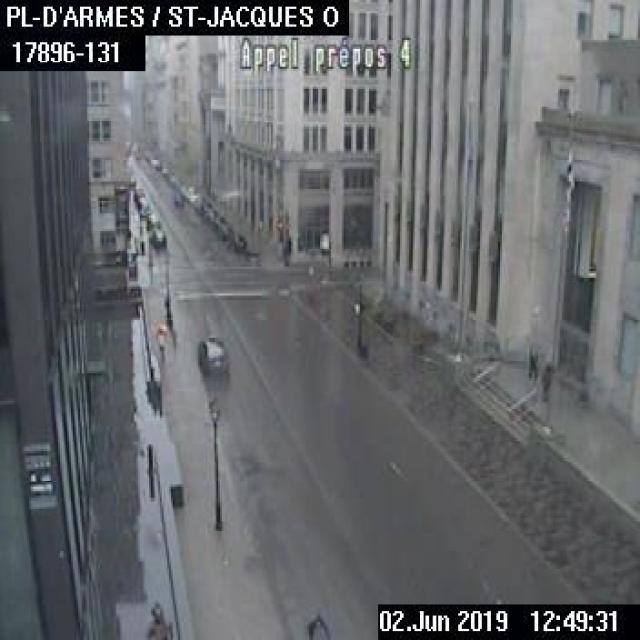pedestrian: (539, 359, 553, 401), (526, 342, 538, 383)
vehicle: (196, 335, 227, 375), (148, 224, 166, 247), (226, 230, 245, 249), (215, 220, 231, 237), (145, 210, 160, 228), (137, 196, 151, 214), (172, 193, 184, 207)
